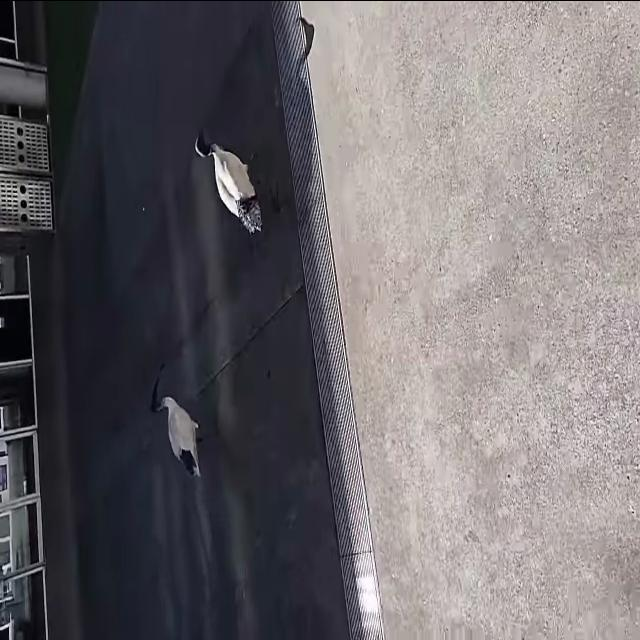Birds-Ibis: (188, 103, 282, 240), (144, 359, 222, 484)
